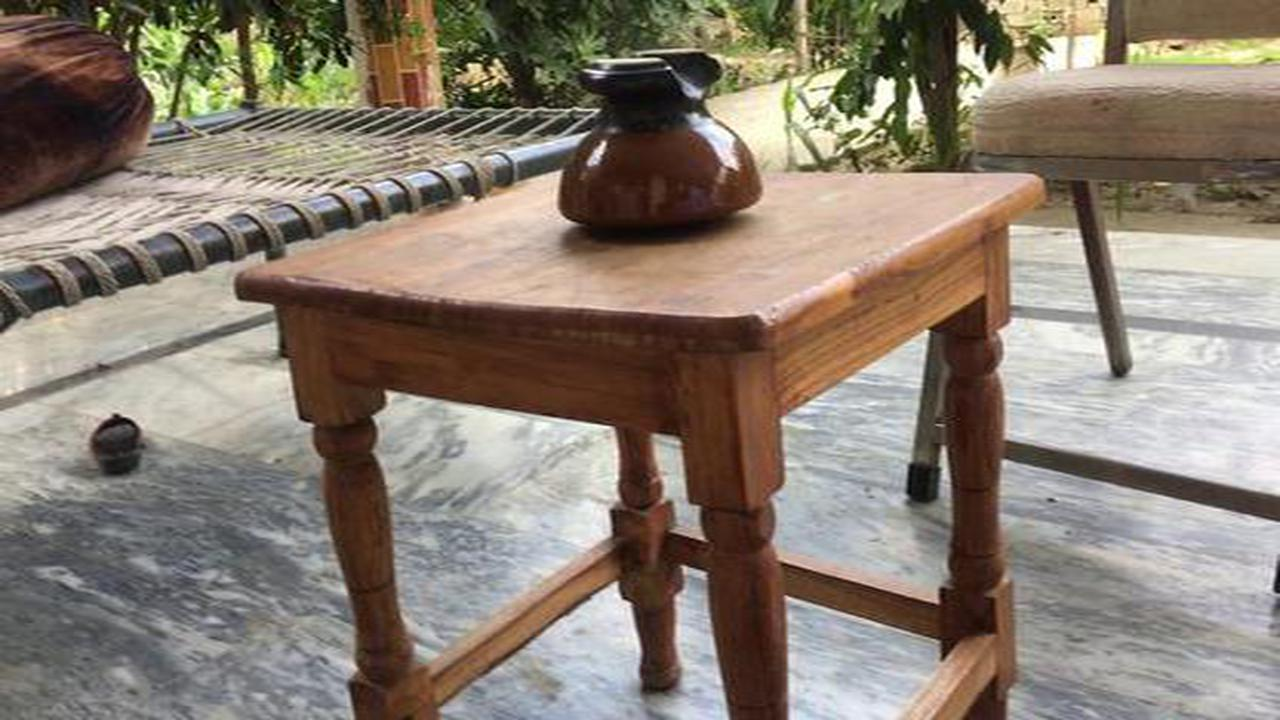insulator_pin: (554, 34, 776, 243)
